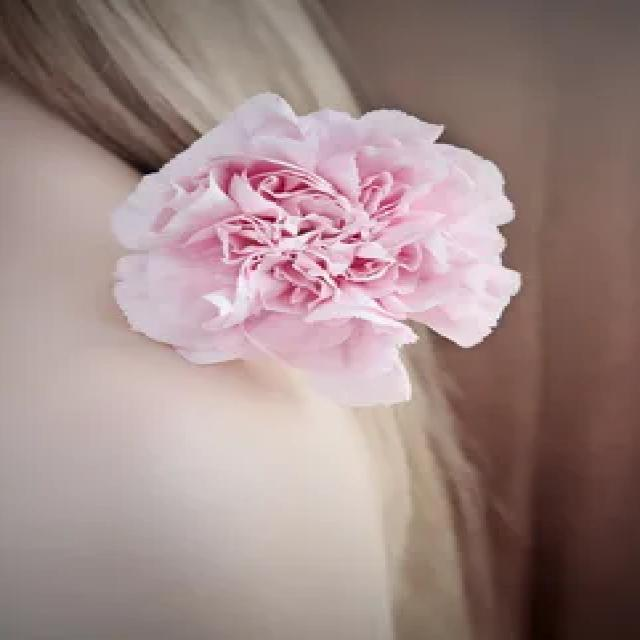carnation: (94, 93, 549, 417)
